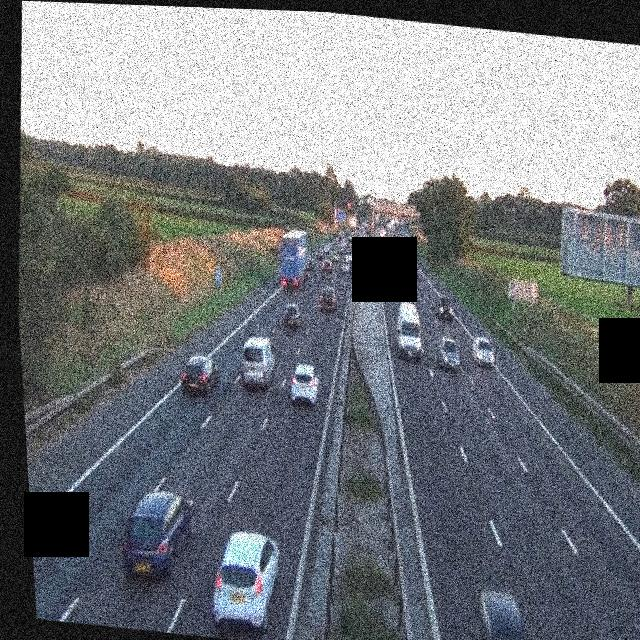car: (206, 528, 286, 634), (118, 485, 199, 582), (464, 585, 547, 640), (237, 335, 278, 390), (178, 352, 223, 397), (288, 362, 319, 405), (468, 333, 495, 366), (438, 337, 461, 370), (317, 285, 337, 313), (435, 293, 455, 321), (281, 301, 302, 327), (338, 255, 350, 272), (399, 265, 411, 282), (320, 256, 332, 272), (382, 258, 394, 273), (319, 243, 330, 258), (407, 259, 417, 271)
truck: (276, 227, 312, 290)
